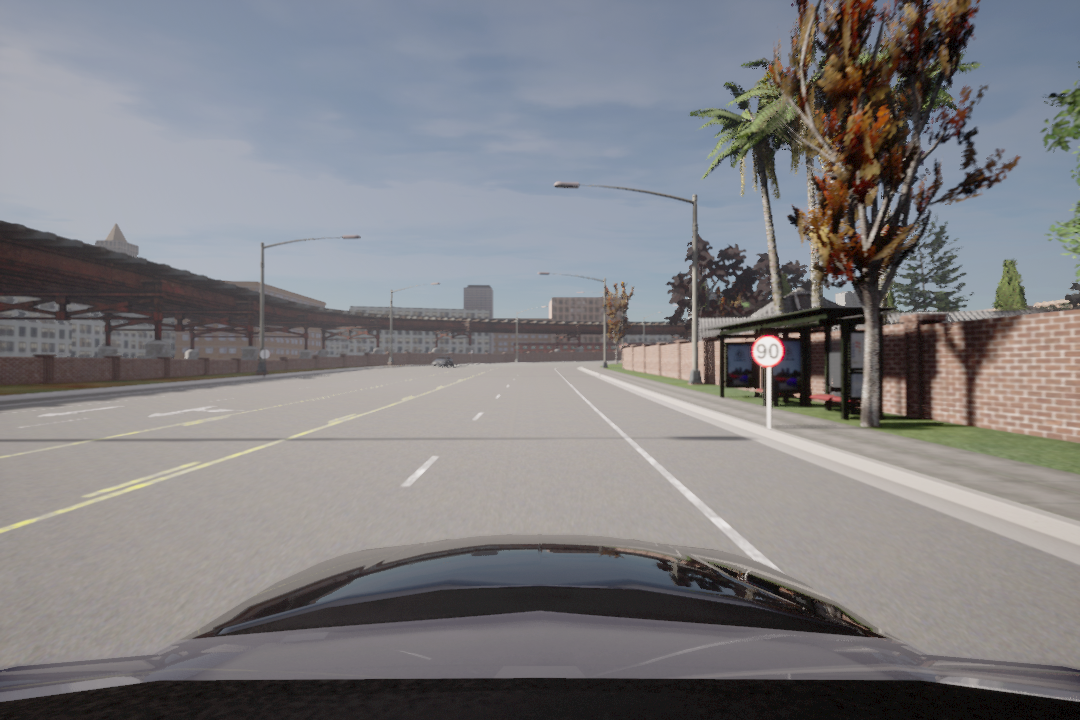RoadSign_forward_left: (146, 402, 236, 420)
TrafficSign_speed: (753, 335, 784, 369)
